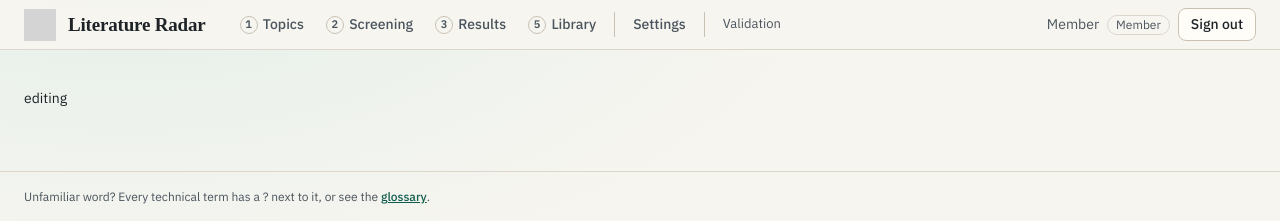
unsaved-changes guard › leaves when the user agrees
The width and height of the screenshot is (1280, 221).
Click the link named "Step 2: Screening" at (369, 24), box [326, 15, 413, 34]
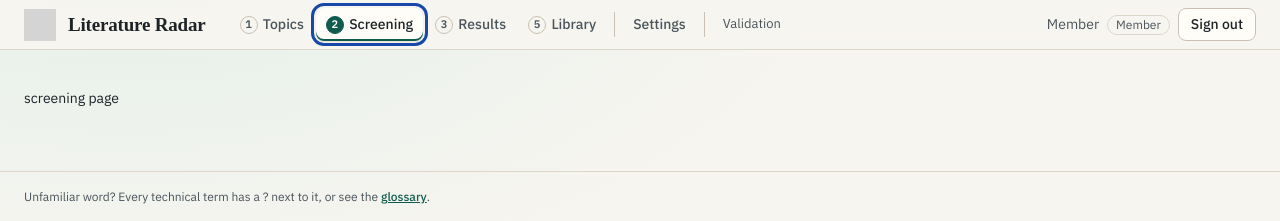
Check: the text "screening page" is shown, box [24, 89, 119, 107]
